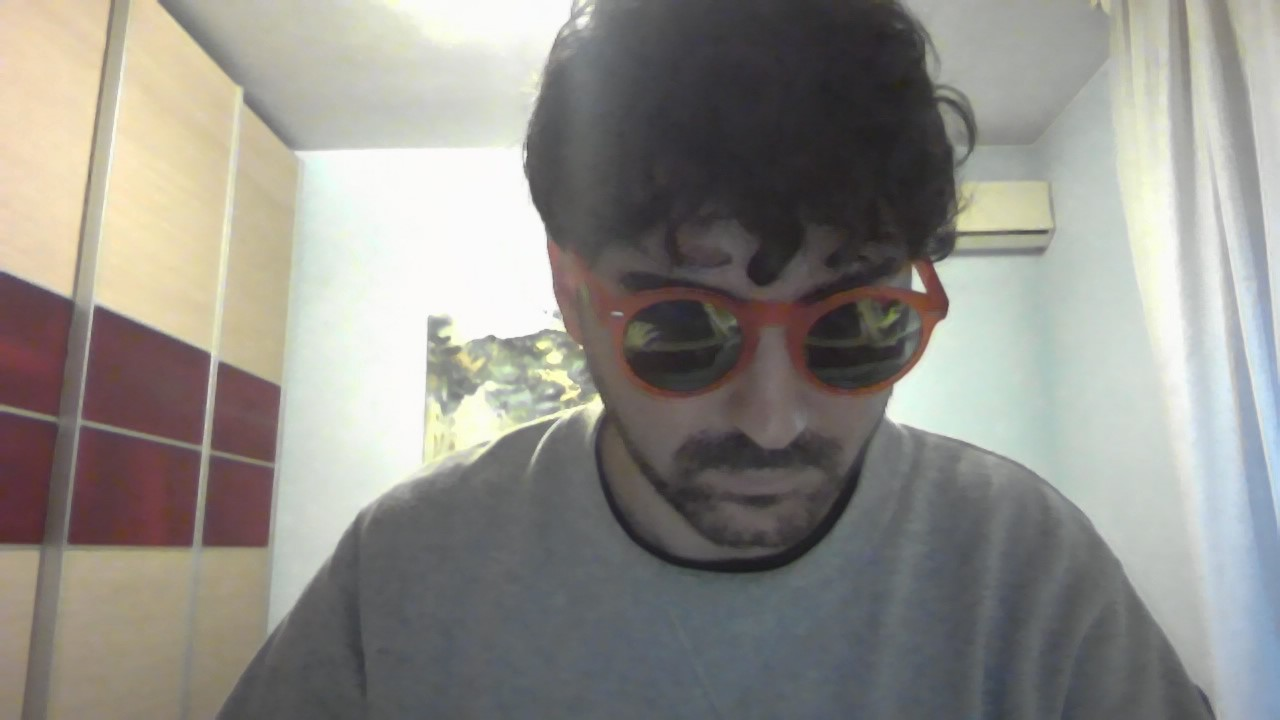Glasses: (537, 240, 986, 404)
